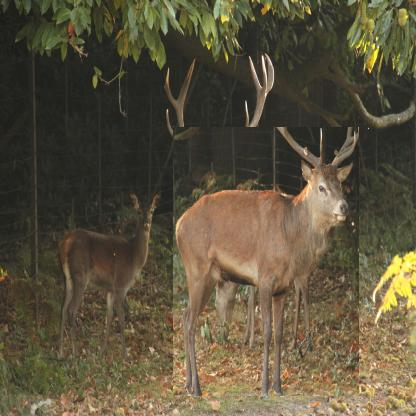Deer: (173, 127, 359, 396), (57, 195, 162, 361)
